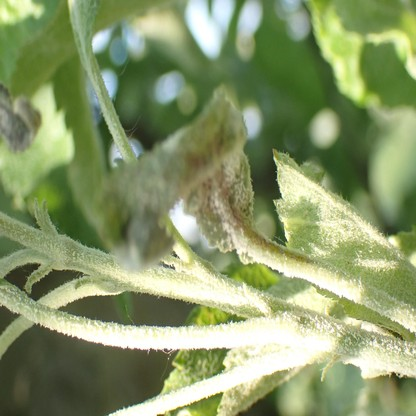powder: (104, 81, 254, 262), (273, 142, 416, 312)
